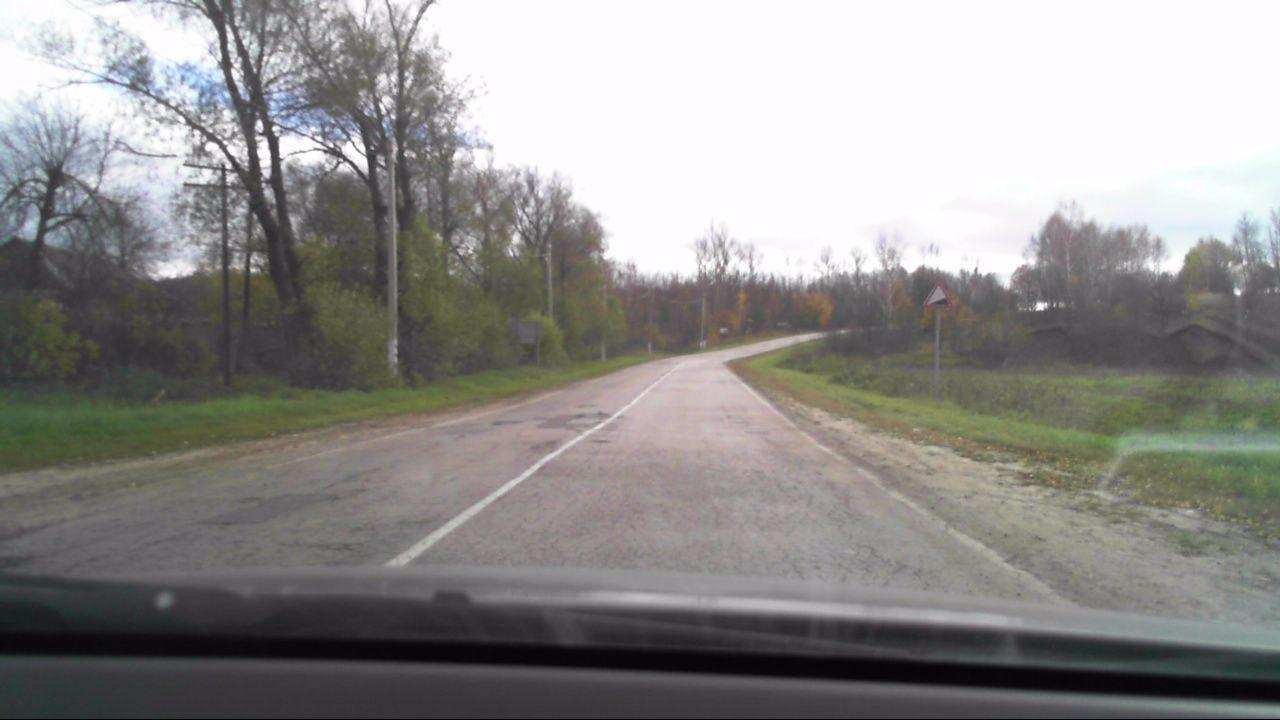1_14: (924, 281, 954, 308)
